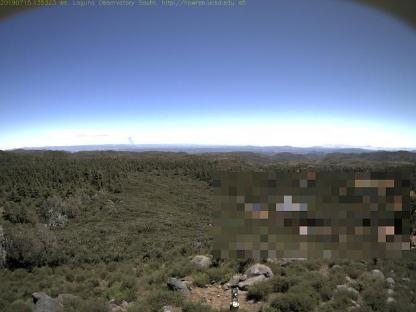smoke: (126, 134, 136, 150)
